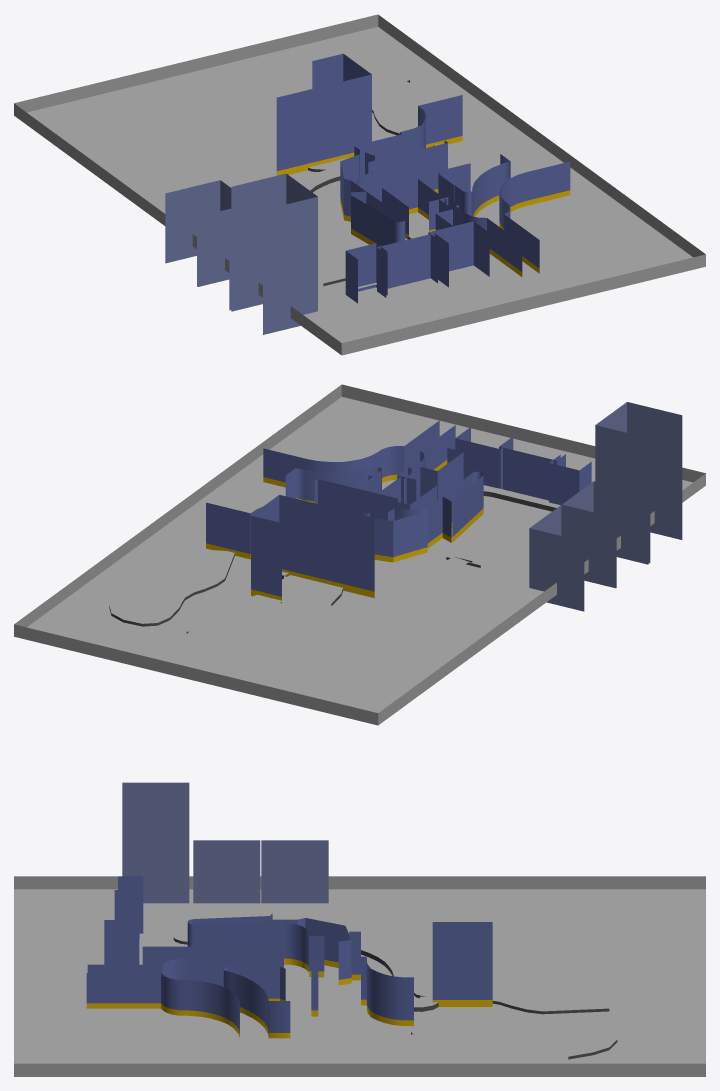
The model's file is level_5Background.fbx.
3 renders of one model, top to bottom at view 1: azimuth 30°, elevation 25°; view 2: azimuth 150°, elevation 25°; view 3: azimuth 270°, elevation 25°, orthographic. The views are drawn at different scales.
Parts seen in each view (by area): view 1: pPlane2; view 2: pPlane2; view 3: pPlane2.
Boxes of the visible parts, x1=… form: pPlane2: x1=14, y1=14, x2=705, y2=355; pPlane2: x1=14, y1=384, x2=705, y2=725; pPlane2: x1=14, y1=782, x2=705, y2=1076.
Size of the model in its own units: 89110 by 28685 by 129186.
